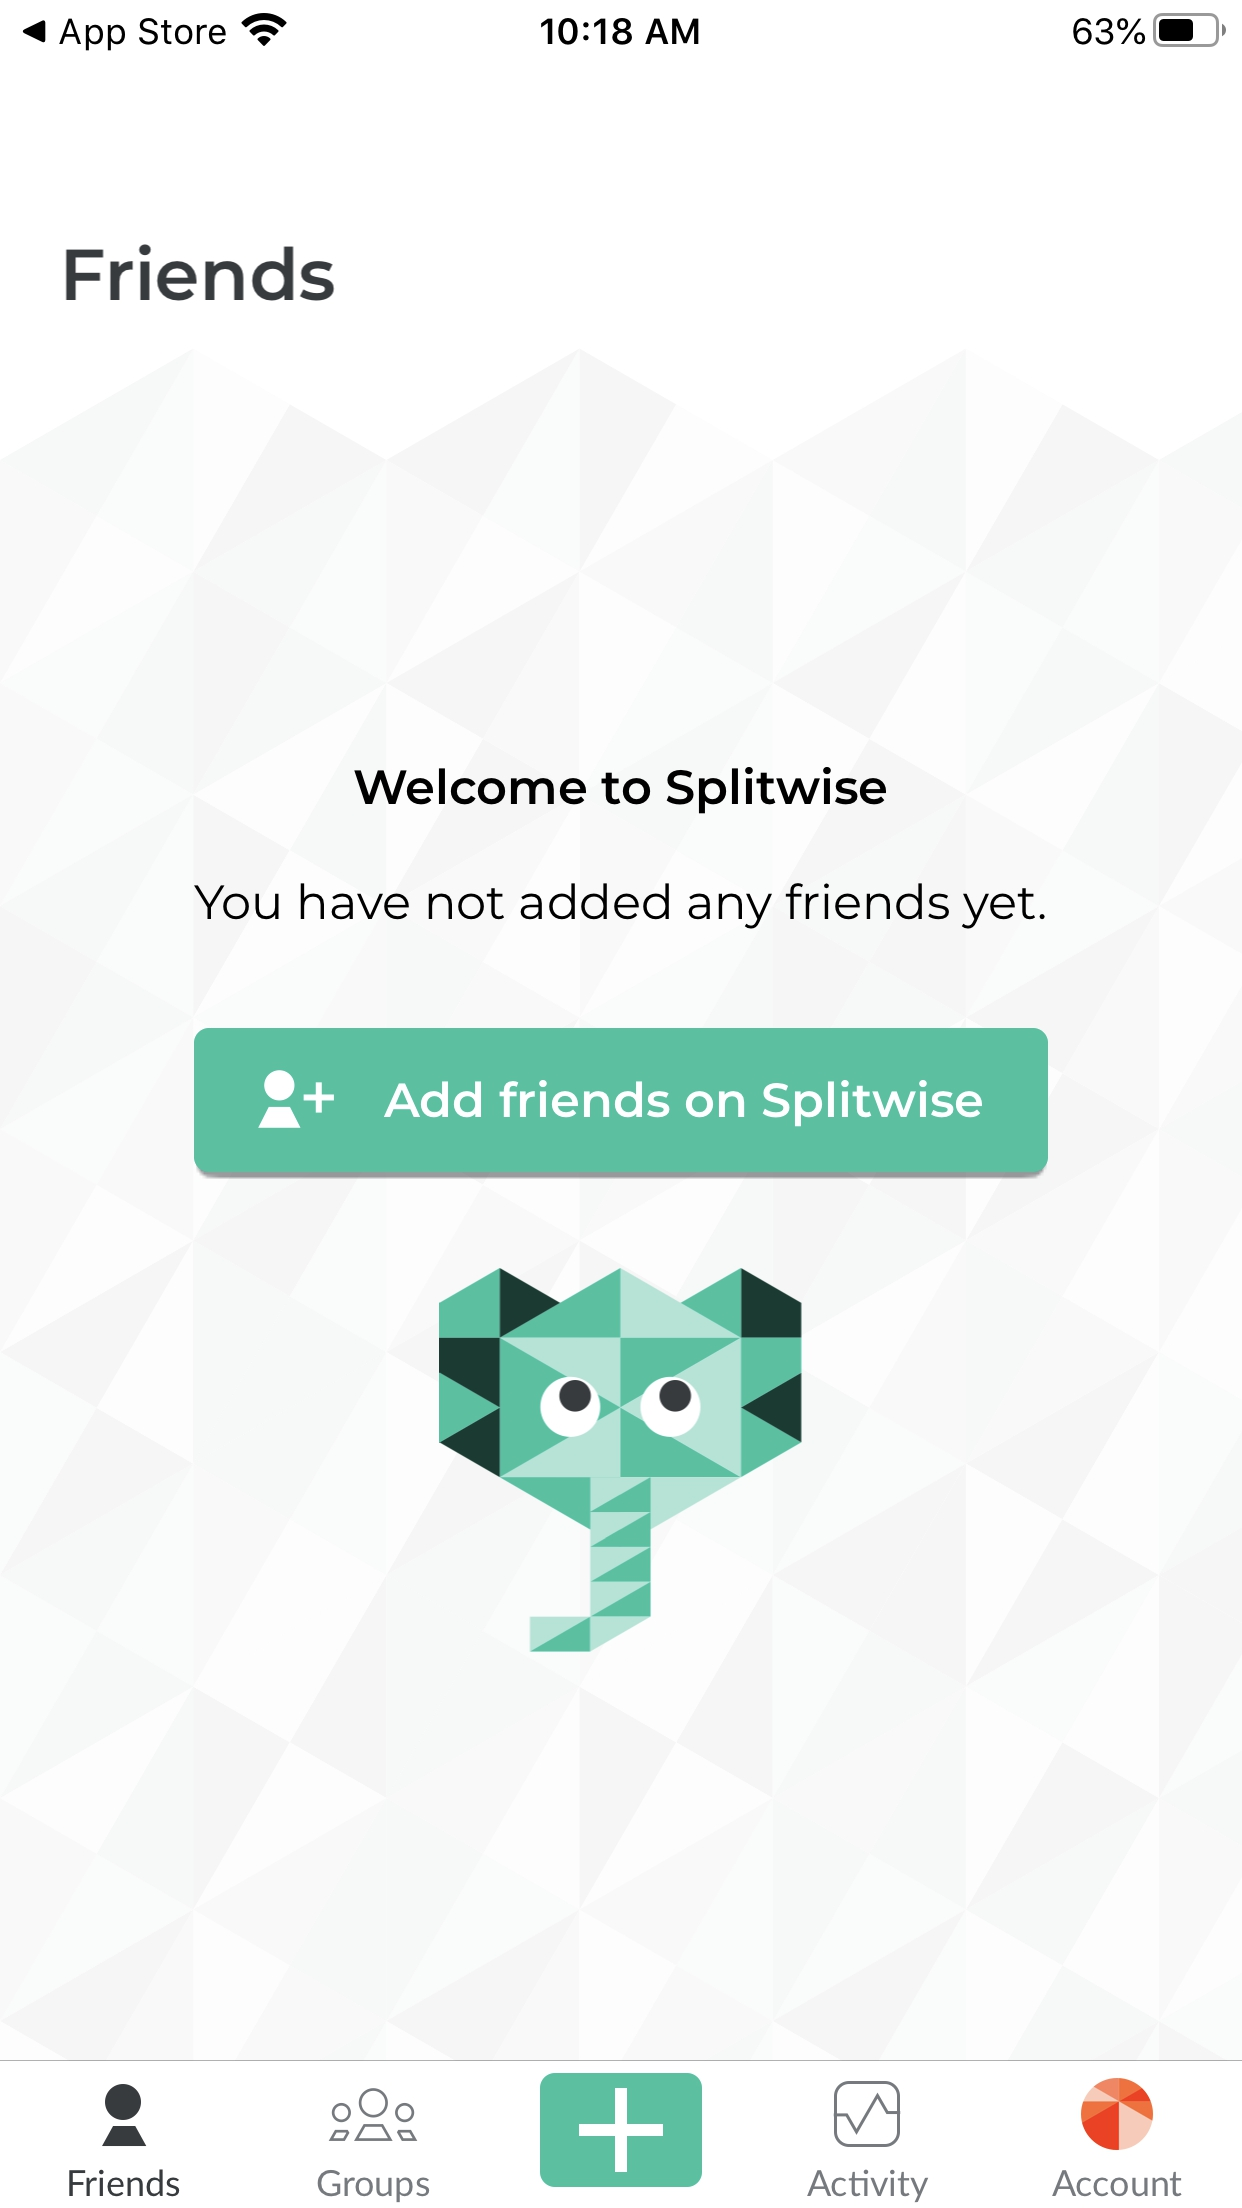Icon: (540, 2072, 702, 2187), (1080, 2078, 1154, 2150), (328, 2088, 419, 2141), (833, 2081, 901, 2147), (102, 2084, 147, 2147)
Image: (438, 1266, 804, 1651)
Text: (194, 883, 1045, 930), (353, 767, 886, 814), (67, 244, 335, 300), (807, 2169, 930, 2202), (317, 2169, 431, 2202), (1052, 2170, 1181, 2197), (70, 2169, 180, 2197)
TextButton: (194, 1028, 1048, 1178)
UpperTaskBar: (2, 2, 1242, 52)
